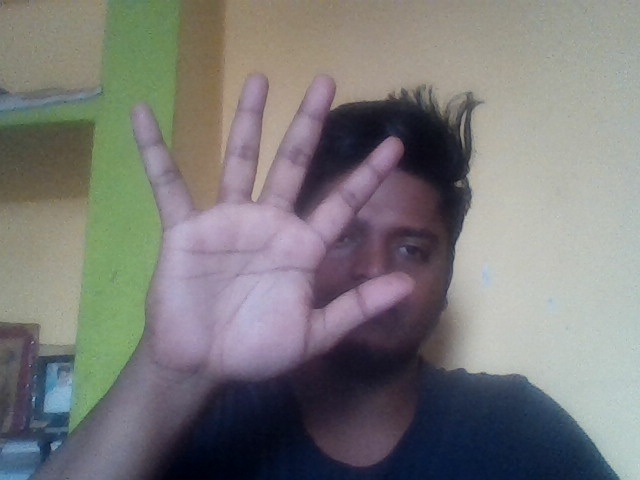Hello: (122, 64, 424, 394)
